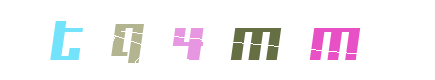4: (178, 0, 258, 80)
M: (216, 0, 296, 80), (244, 0, 324, 80)
Q: (99, 0, 179, 80)
T: (23, 0, 103, 80)
